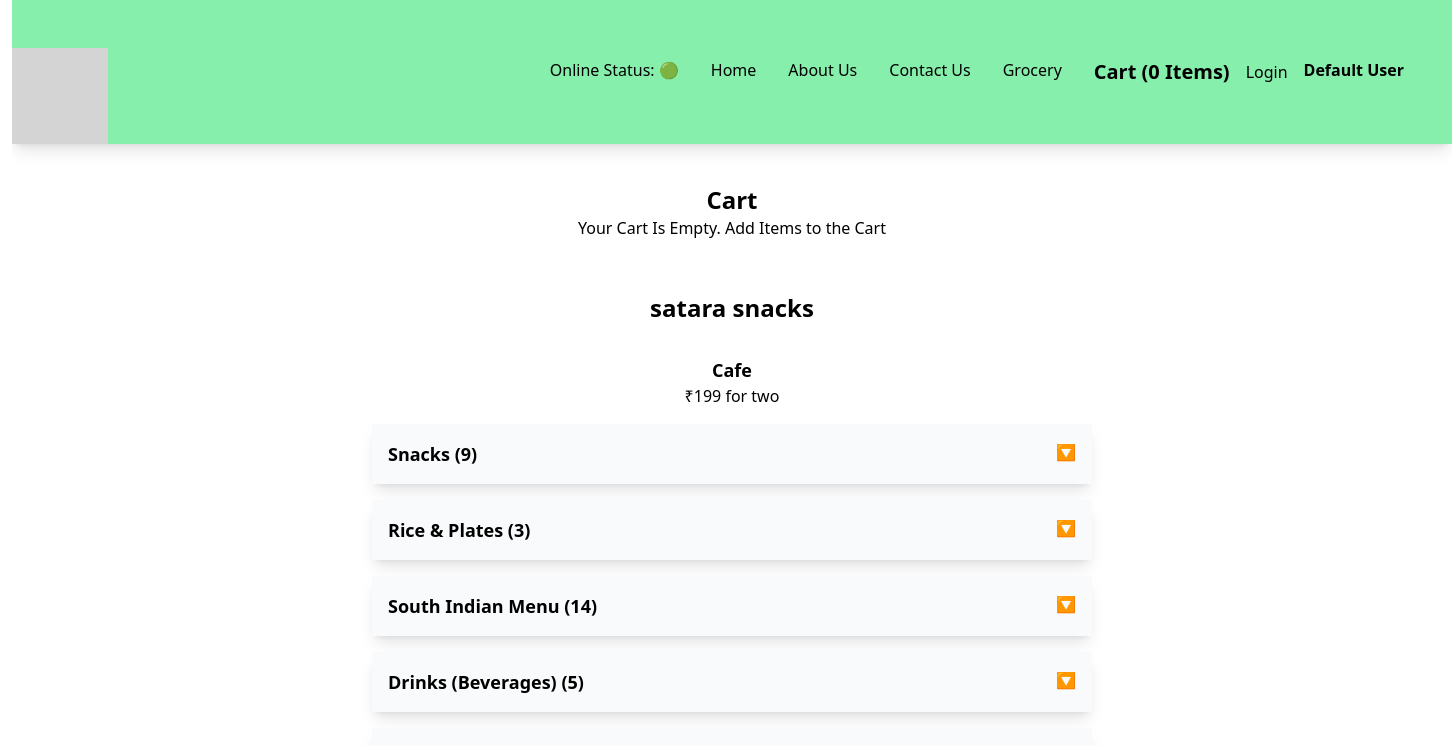
should load restarrunt menu compoentn
Click the text "Snacks (9)": (433, 454) left=388, top=440, right=477, bottom=468
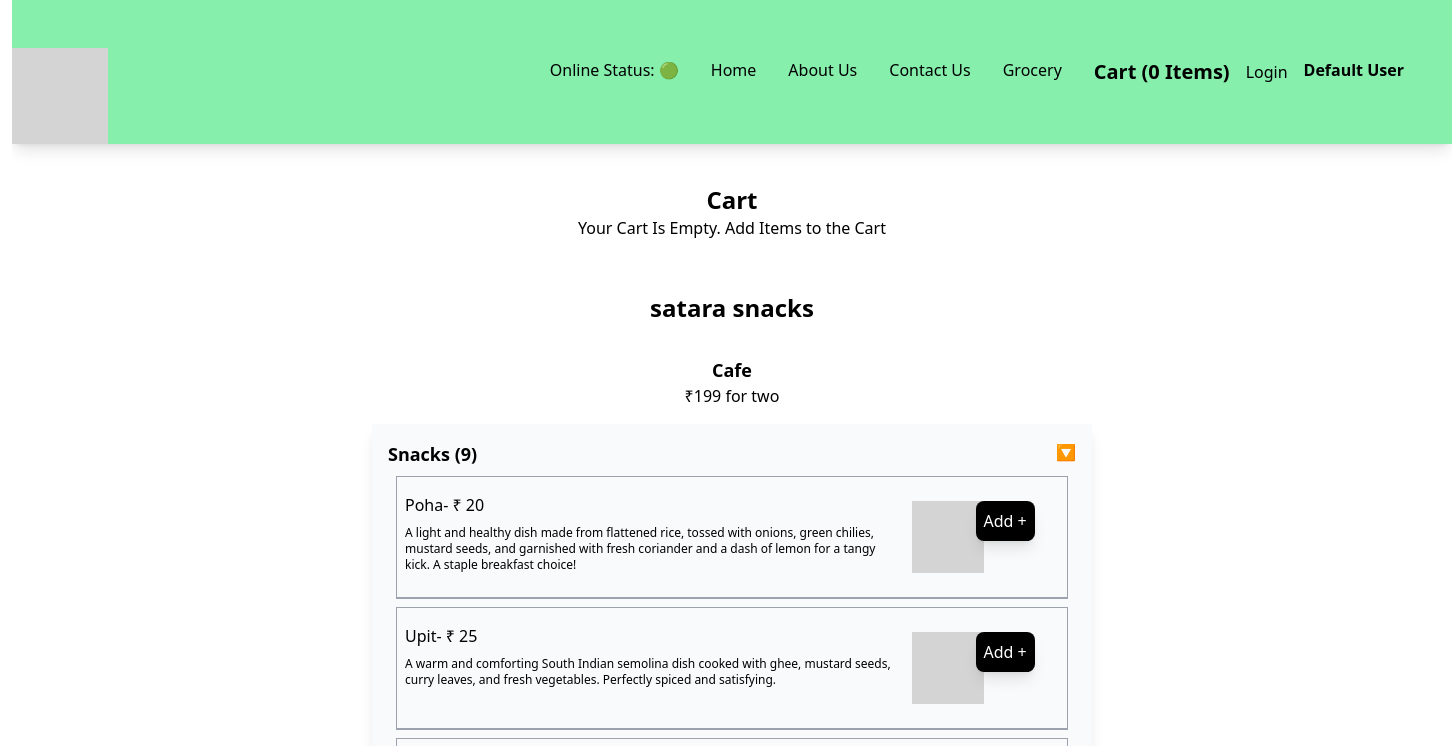
expect the number of elements with test id "foodItems" is 9: met
Click the button "Add +" in the row of "20": (1005, 521) left=976, top=501, right=1035, bottom=541
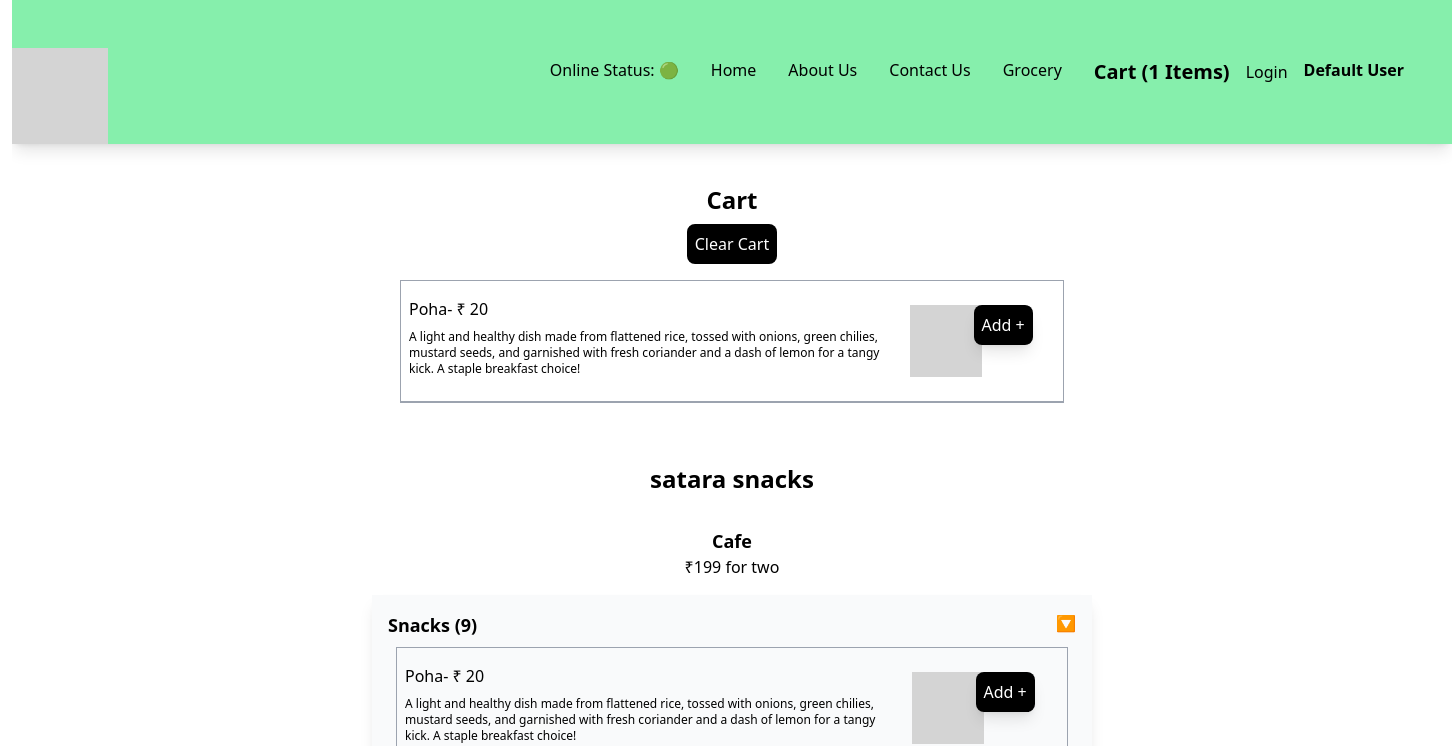
expect the link "Cart (1 Items)" is shown: met, box left=1094, top=58, right=1230, bottom=85
